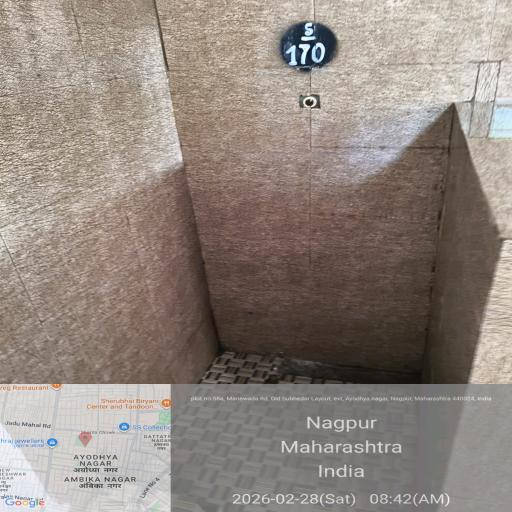clean_floor: (20, 31, 445, 457)
